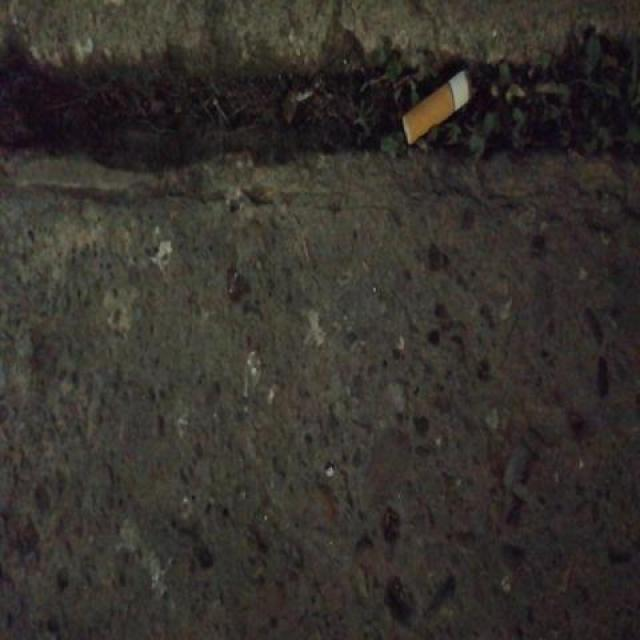non-organic waste: (398, 64, 478, 152)
